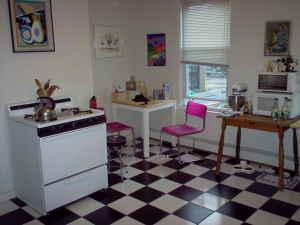Electrodomestico: (10, 109, 113, 206)
Ventana: (181, 17, 230, 109)
